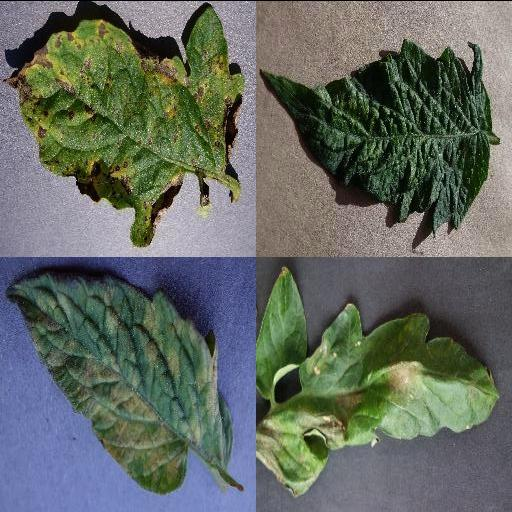Late Blight: (256, 266, 501, 499)
Leaf Mold: (3, 266, 233, 493)
Septoria: (5, 4, 245, 246)
Spider Mites: (260, 40, 490, 236)
